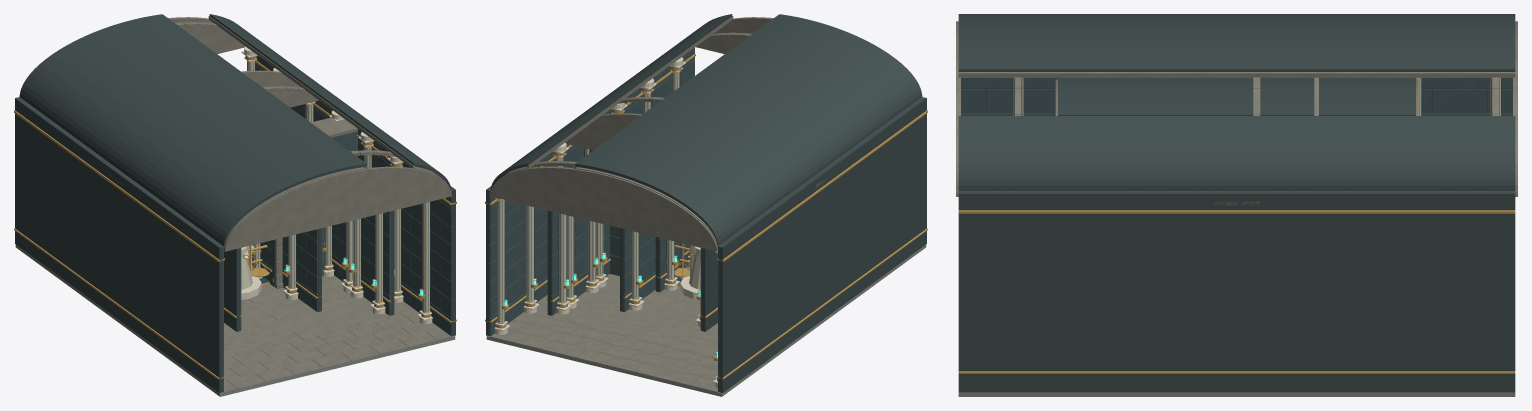
File: balance-temple-v08.glb
3 views of the same model, side by side, from view 1: azimuth 30°, elevation 25°; view 2: azimuth 150°, elevation 25°; view 3: azimuth 270°, elevation 25° (orthographic). The views are drawn at different scales.
Visible parts, largest first — view 1: hall_lever_Balance wall backing, hall_lever_Balance vault rib, hall_lever_Balance paving limestone, hall_lever_Balance wall ashlar, hall_lever_Aged brass, hall_order_Balance paving limestone, hall_entry_Balance wall ashlar, hall_twin_Balance paving limestone, hall_lever_Ivory limestone, Paving foundation hall_lever, hall_entry_Balance wall backing, hall_order_Balance wall ashlar (+14 smaller); view 2: hall_lever_Balance wall backing, hall_lever_Balance vault rib, hall_lever_Balance paving limestone, hall_lever_Balance wall ashlar, hall_lever_Aged brass, hall_order_Balance wall ashlar, hall_lever_Ivory limestone, hall_entry_Balance wall ashlar, Paving foundation hall_lever, hall_order_Balance paving limestone, hall_twin_Balance paving limestone, hall_entry_Balance wall backing (+12 smaller); view 3: hall_lever_Balance wall backing, hall_order_Balance wall backing, hall_lever_Balance wall ashlar, hall_lever_Balance vault rib, hall_twin_Balance wall backing, hall_lever_Aged brass, Paving foundation hall_lever, portal18_Balance wall backing.
Boxes of the visible parts, left/top/right/bottom form: hall_lever_Balance wall backing: left=15, top=14, right=455, bottom=393; hall_lever_Balance vault rib: left=19, top=16, right=452, bottom=251; hall_lever_Balance paving limestone: left=223, top=265, right=450, bottom=392; hall_lever_Balance wall ashlar: left=18, top=55, right=452, bottom=391; hall_lever_Aged brass: left=14, top=56, right=456, bottom=379; hall_order_Balance paving limestone: left=224, top=276, right=386, bottom=355; hall_entry_Balance wall ashlar: left=240, top=229, right=318, bottom=330; hall_twin_Balance paving limestone: left=224, top=276, right=372, bottom=348; hall_lever_Ivory limestone: left=247, top=61, right=429, bottom=312; Paving foundation hall_lever: left=15, top=244, right=455, bottom=396; hall_entry_Balance wall backing: left=224, top=228, right=321, bottom=331; hall_order_Balance wall ashlar: left=332, top=211, right=390, bottom=315; hall_lever_Balance wall backing: left=486, top=14, right=926, bottom=393; hall_lever_Balance vault rib: left=489, top=16, right=922, bottom=251; hall_lever_Balance paving limestone: left=491, top=266, right=718, bottom=392; hall_lever_Balance wall ashlar: left=489, top=48, right=923, bottom=391; hall_lever_Aged brass: left=485, top=54, right=927, bottom=381; hall_order_Balance wall ashlar: left=551, top=211, right=609, bottom=315; hall_lever_Ivory limestone: left=497, top=71, right=679, bottom=323; hall_entry_Balance wall ashlar: left=623, top=229, right=701, bottom=330; Paving foundation hall_lever: left=486, top=244, right=926, bottom=396; hall_order_Balance paving limestone: left=570, top=267, right=717, bottom=354; hall_twin_Balance paving limestone: left=570, top=275, right=717, bottom=348; hall_entry_Balance wall backing: left=620, top=228, right=717, bottom=331; hall_lever_Balance wall backing: left=958, top=14, right=1515, bottom=392; hall_order_Balance wall backing: left=1058, top=78, right=1415, bottom=115; hall_lever_Balance wall ashlar: left=958, top=78, right=1515, bottom=191; hall_lever_Balance vault rib: left=956, top=21, right=1517, bottom=196; hall_twin_Balance wall backing: left=1078, top=78, right=1395, bottom=115; hall_lever_Aged brass: left=958, top=210, right=1515, bottom=373; Paving foundation hall_lever: left=958, top=392, right=1515, bottom=396; portal18_Balance wall backing: left=1214, top=206, right=1259, bottom=391.
Size of the model in its own units: 18.91 by 15.05 by 28.24.
Materials: 16 (5 with a texture image).
